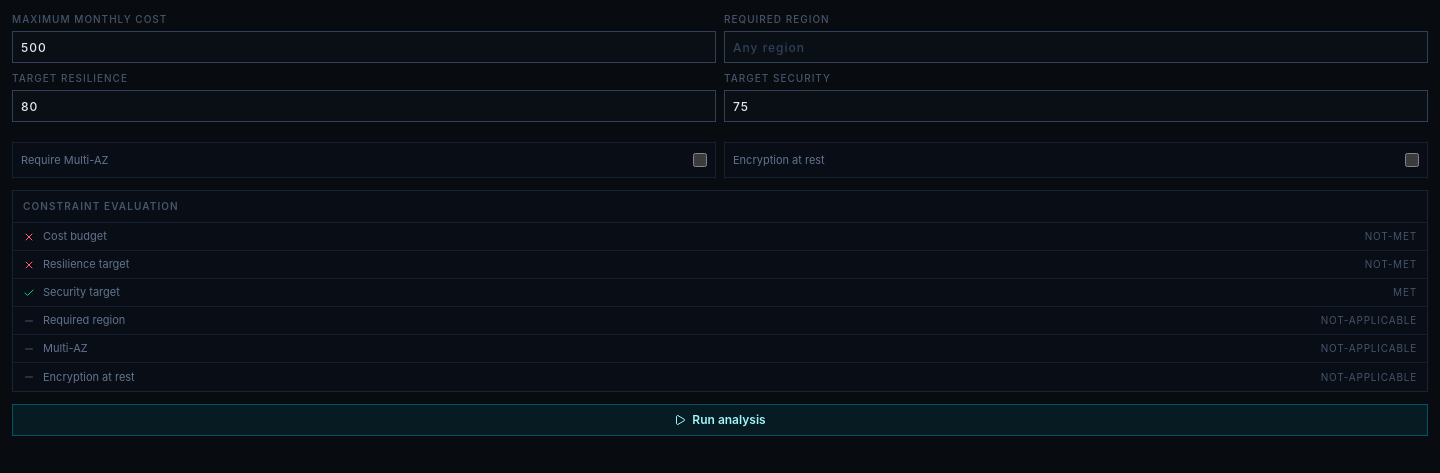
numeric inspector validation › restores rejected Maximum monthly cost without changing history
Replace the text in the number field labelled "Maximum monthly cost" with "-1" at [364, 47], box [12,31,716,63]
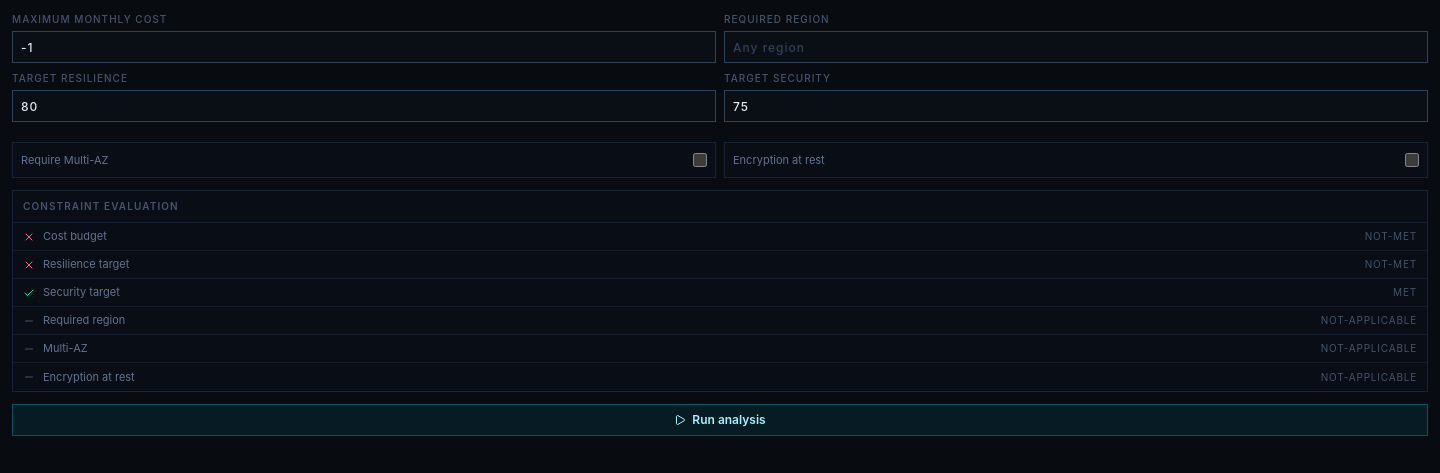
Leave the number field labelled "Maximum monthly cost", box [12,31,716,63]
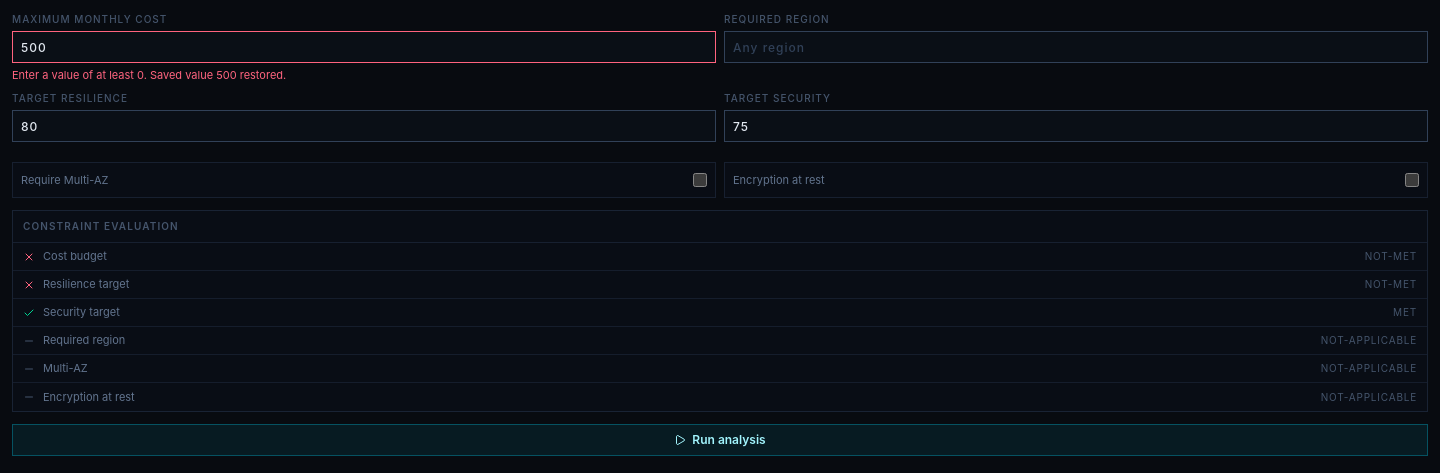
Now the number field labelled "Maximum monthly cost" holds "500", box [12,31,716,63]
